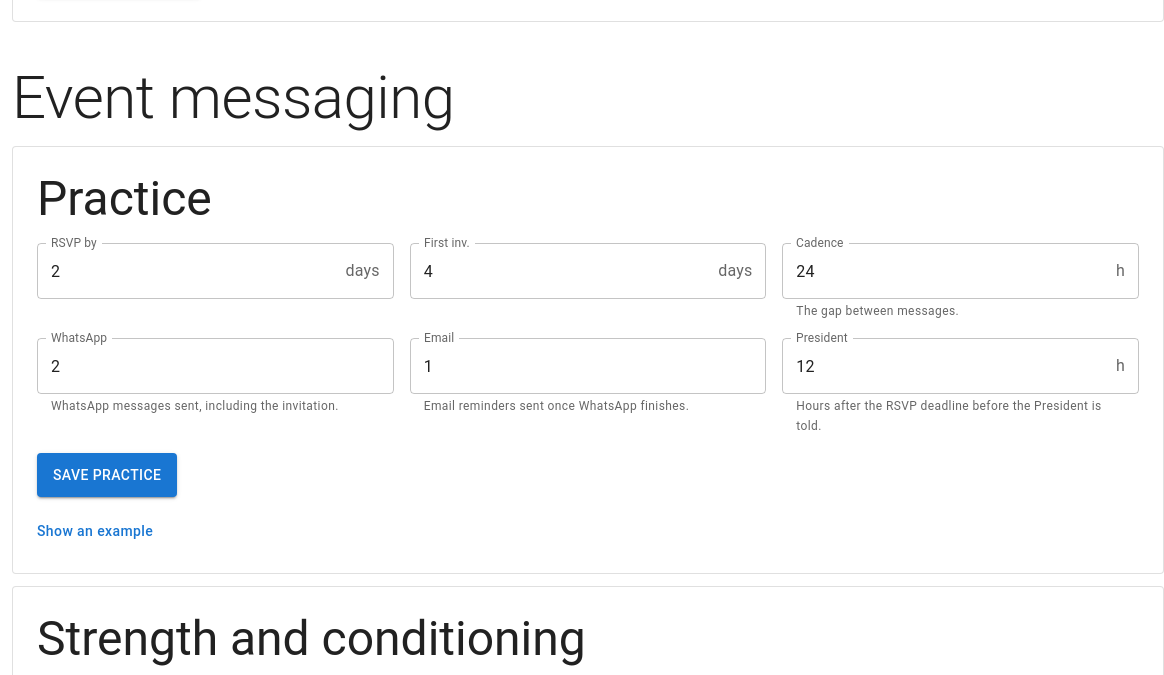
a saved result never outlives the values it described — LAN-250 › clears the server's message as soon as the field it named is edited
(page scrolled)
Submit the form with test id "schedule-row" that starts with "Practice"
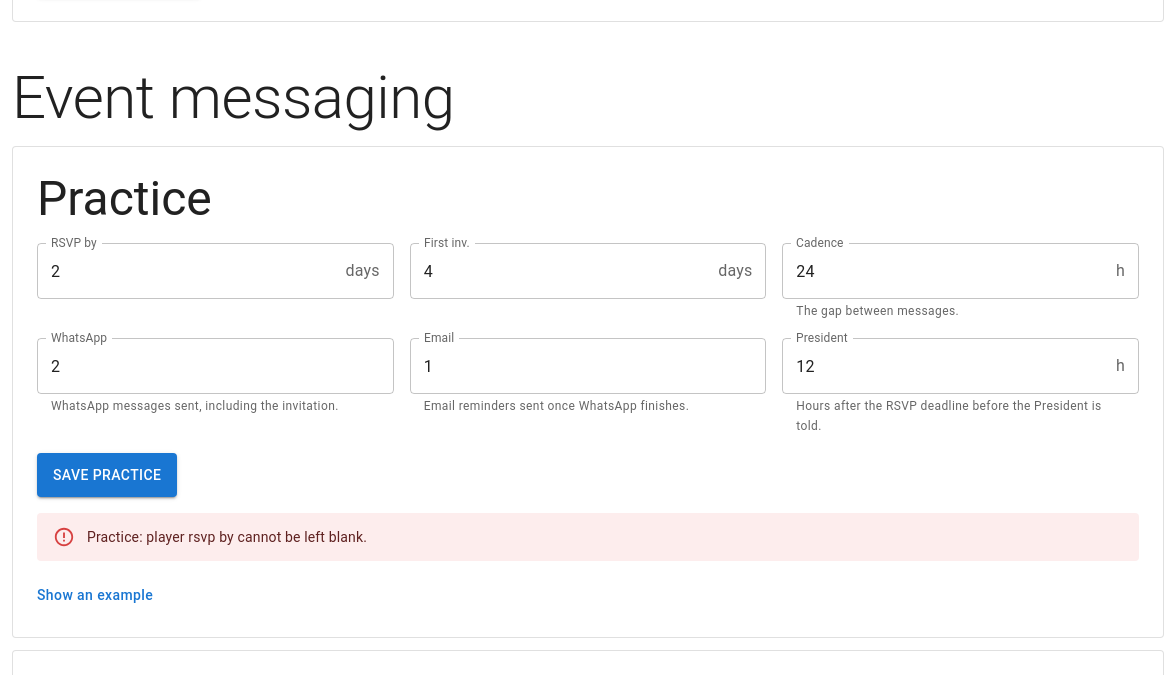
Check: the form with test id "schedule-row" shows "Practice: player rsvp by cannot be left blank.", box [87,529,367,545]
Replace the text in the number field named "rsvpByDays" with "999999" at (187, 271), box [37,243,338,299]
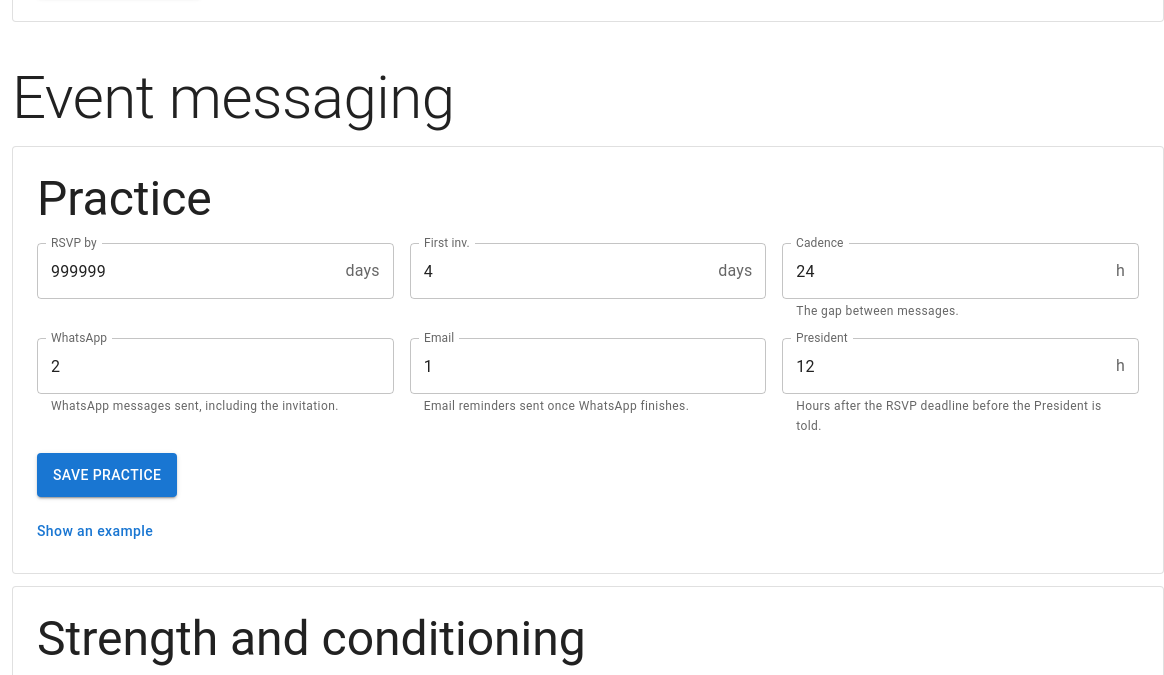
Check: the text with test id "schedule-row" no longer shows "Practice: player rsvp by cannot be left blank."
